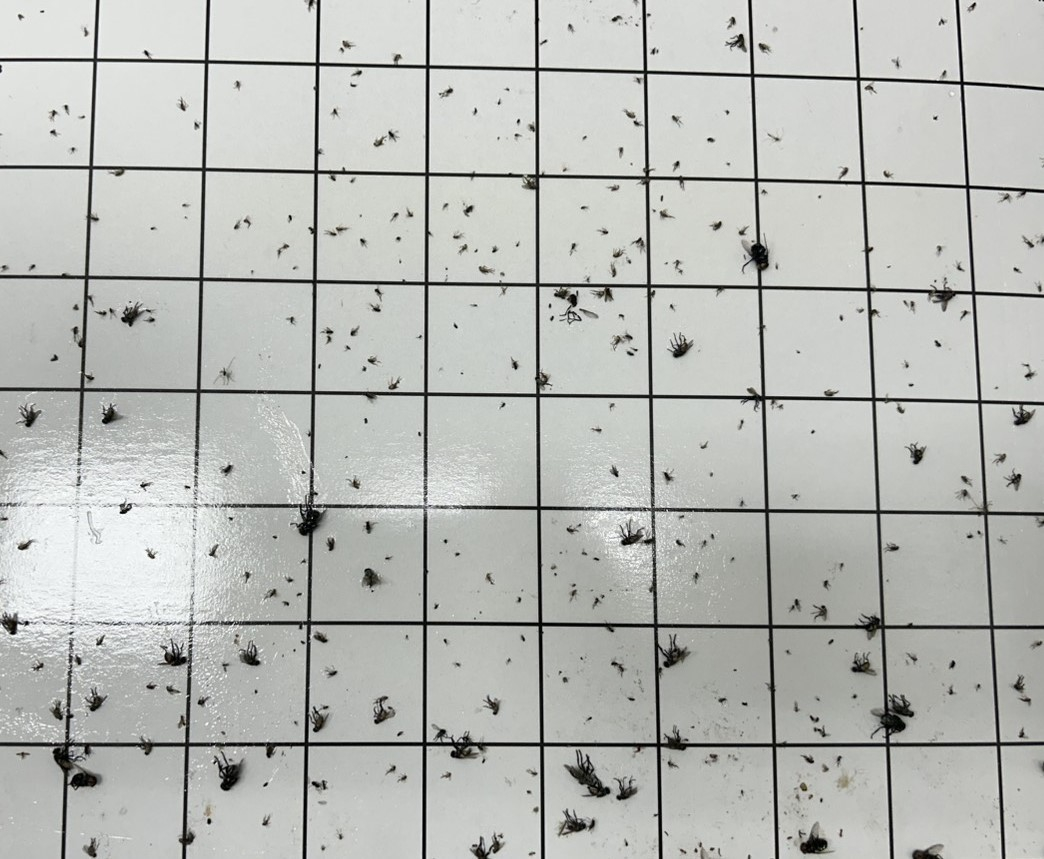fly: (290, 493, 329, 536), (796, 819, 835, 856), (212, 750, 245, 793), (737, 236, 773, 275), (560, 746, 597, 783), (657, 634, 692, 667), (555, 806, 588, 840), (842, 651, 880, 680), (49, 739, 82, 772), (66, 763, 102, 793), (871, 711, 909, 737), (159, 638, 189, 670), (665, 331, 696, 360), (370, 695, 399, 725), (82, 686, 111, 715), (98, 401, 127, 430), (449, 732, 477, 762), (15, 400, 44, 428), (304, 705, 332, 732), (358, 566, 385, 593), (584, 776, 612, 802), (615, 773, 640, 802), (858, 612, 883, 640), (240, 639, 264, 668), (933, 286, 958, 313), (1009, 402, 1036, 426), (910, 841, 946, 859), (906, 441, 928, 465), (2, 611, 20, 640), (553, 280, 570, 299)
test: (614, 519, 643, 550), (116, 297, 145, 328), (740, 383, 766, 413), (660, 728, 691, 752), (467, 835, 493, 859), (485, 692, 504, 721), (724, 32, 748, 54), (1005, 467, 1024, 493), (530, 370, 552, 391), (428, 722, 450, 743), (138, 734, 155, 759), (814, 601, 831, 625), (973, 499, 993, 519), (80, 840, 101, 859), (15, 535, 37, 553), (263, 737, 279, 761), (217, 364, 235, 385), (489, 834, 507, 855), (1011, 671, 1027, 694), (178, 830, 197, 849), (521, 174, 540, 193), (118, 498, 137, 516), (80, 741, 98, 760), (882, 539, 901, 556), (764, 130, 783, 147), (391, 49, 405, 72), (820, 386, 841, 401), (661, 467, 679, 484), (990, 449, 1008, 466), (311, 628, 329, 645), (756, 40, 773, 58), (953, 485, 971, 502), (609, 332, 625, 351), (384, 376, 404, 391), (51, 701, 65, 722), (566, 290, 582, 308), (658, 206, 677, 221), (608, 462, 621, 483), (361, 519, 378, 535), (438, 85, 455, 101), (370, 133, 386, 150), (863, 81, 880, 97), (207, 541, 222, 559), (790, 597, 805, 615), (814, 726, 833, 740), (1023, 364, 1039, 380), (81, 371, 98, 386), (460, 204, 477, 219), (1021, 233, 1036, 250), (507, 355, 521, 373), (109, 165, 127, 179), (220, 462, 235, 478), (139, 478, 155, 493), (93, 634, 109, 649), (82, 292, 98, 307), (735, 224, 751, 239), (836, 164, 850, 181), (996, 191, 1013, 205), (176, 95, 189, 113), (567, 240, 580, 258), (603, 284, 615, 303), (283, 314, 298, 329), (302, 0, 318, 14), (496, 281, 510, 297), (637, 173, 653, 187), (724, 15, 738, 31), (339, 38, 356, 51), (177, 713, 189, 731), (607, 261, 619, 279), (931, 335, 945, 350), (802, 751, 816, 766), (325, 665, 339, 680), (611, 245, 626, 259), (33, 659, 46, 675), (349, 323, 362, 339), (70, 323, 83, 339), (889, 55, 902, 71), (476, 264, 494, 275), (644, 534, 658, 548), (1015, 726, 1029, 740), (265, 586, 279, 600), (474, 738, 488, 752), (367, 353, 381, 367), (670, 113, 684, 127), (895, 402, 908, 417), (163, 682, 178, 695), (766, 681, 779, 696), (958, 308, 971, 323), (349, 476, 361, 492), (145, 546, 157, 562), (261, 813, 273, 829), (404, 204, 416, 220), (606, 182, 622, 194), (195, 696, 212, 707), (590, 423, 604, 436), (690, 570, 703, 584), (325, 537, 338, 551), (396, 771, 410, 784), (73, 654, 86, 668), (242, 215, 255, 229), (386, 129, 400, 142), (457, 242, 470, 256), (364, 390, 379, 402), (94, 307, 109, 319), (373, 283, 385, 298), (451, 229, 466, 241), (623, 107, 638, 119), (821, 576, 832, 592), (736, 417, 747, 433), (15, 749, 31, 760), (320, 325, 336, 336), (677, 174, 687, 191), (641, 164, 658, 174), (1031, 638, 1044, 651), (905, 651, 918, 664), (634, 742, 647, 755), (665, 759, 678, 772), (587, 817, 600, 830), (228, 220, 241, 233), (47, 107, 60, 120), (368, 302, 381, 315), (1016, 187, 1029, 200), (965, 0, 978, 13), (385, 763, 399, 775), (389, 209, 401, 223), (610, 12, 624, 24), (711, 219, 723, 233), (867, 307, 881, 319), (1019, 695, 1034, 706), (309, 778, 320, 793), (335, 223, 350, 234), (80, 24, 91, 39), (592, 594, 602, 610), (484, 573, 496, 586), (241, 569, 253, 582), (526, 766, 539, 778), (49, 352, 62, 364), (350, 67, 363, 79), (325, 227, 338, 239), (649, 45, 661, 58), (882, 168, 895, 180), (592, 288, 605, 300), (755, 322, 768, 334), (604, 622, 615, 636), (698, 438, 709, 452), (791, 490, 803, 502), (946, 659, 958, 671), (809, 713, 821, 725), (220, 661, 232, 673), (793, 699, 802, 715), (142, 48, 154, 60), (670, 159, 682, 171), (631, 235, 643, 247), (714, 284, 726, 296), (622, 330, 634, 342), (954, 261, 966, 273), (440, 635, 451, 648), (568, 587, 579, 600), (307, 224, 318, 237), (191, 119, 202, 132), (633, 75, 644, 88), (107, 305, 118, 318), (672, 258, 685, 269), (863, 244, 876, 255), (737, 495, 747, 509), (440, 770, 454, 780), (87, 214, 101, 224), (639, 239, 649, 253), (1036, 514, 1044, 531), (673, 538, 685, 549), (946, 685, 957, 697), (566, 525, 577, 537), (393, 728, 405, 739), (820, 762, 832, 773), (960, 472, 971, 484), (71, 301, 82, 313), (347, 78, 358, 90), (538, 37, 550, 48), (706, 135, 717, 147), (937, 68, 949, 79), (519, 632, 529, 645), (740, 699, 750, 712), (708, 751, 721, 761), (497, 399, 507, 412), (646, 583, 656, 596), (145, 682, 158, 692), (275, 247, 285, 260), (358, 236, 368, 249), (566, 22, 576, 35), (596, 226, 609, 236), (144, 315, 157, 325), (321, 779, 330, 793), (62, 103, 71, 117), (441, 537, 452, 548), (183, 482, 194, 493), (232, 78, 243, 89), (607, 400, 617, 412), (837, 560, 847, 572), (280, 599, 292, 609), (901, 359, 911, 371), (708, 531, 718, 543), (835, 753, 845, 765), (327, 171, 337, 183), (49, 127, 59, 139), (632, 118, 644, 128), (668, 302, 678, 314), (935, 243, 945, 255), (1011, 265, 1023, 275), (937, 16, 949, 26), (331, 106, 340, 119), (496, 95, 505, 108), (617, 145, 626, 158), (996, 536, 1009, 545), (384, 553, 395, 563), (295, 589, 305, 600), (561, 675, 571, 686), (532, 804, 542, 815), (699, 538, 709, 549), (296, 619, 306, 630), (313, 146, 324, 156), (323, 335, 334, 345), (76, 340, 87, 350), (26, 261, 37, 271), (59, 271, 70, 281), (579, 203, 590, 213), (468, 169, 478, 180), (515, 594, 524, 606), (677, 512, 686, 524), (441, 200, 450, 212), (144, 306, 156, 315), (1035, 282, 1044, 294), (909, 299, 918, 311), (336, 830, 344, 843), (837, 827, 845, 840), (906, 621, 916, 631), (286, 575, 296, 585), (204, 817, 214, 827), (527, 848, 537, 858), (728, 554, 738, 564), (360, 363, 370, 373), (469, 300, 479, 310), (490, 244, 500, 254), (342, 343, 352, 353), (630, 343, 640, 353), (772, 261, 782, 271), (503, 656, 512, 667), (592, 554, 601, 565), (15, 11, 26, 20), (527, 122, 536, 133), (512, 131, 523, 140), (583, 275, 592, 286), (974, 682, 983, 693), (717, 696, 729, 704), (362, 415, 370, 427), (777, 401, 785, 413), (769, 397, 777, 409), (927, 288, 935, 300), (611, 659, 621, 668), (783, 647, 793, 656), (306, 428, 315, 438), (226, 513, 236, 522), (271, 533, 280, 543), (623, 839, 632, 849), (525, 788, 535, 797), (580, 548, 589, 558), (181, 200, 191, 209), (452, 320, 461, 330), (470, 106, 479, 116), (502, 84, 512, 93), (514, 116, 523, 126), (724, 159, 733, 169), (760, 187, 769, 197), (966, 531, 975, 541), (626, 695, 637, 703), (286, 212, 294, 223), (624, 349, 635, 357), (855, 307, 866, 315), (837, 312, 845, 323), (850, 692, 859, 701), (454, 660, 463, 669), (431, 602, 440, 611), (299, 558, 308, 567), (319, 844, 328, 853), (338, 45, 347, 54), (0, 264, 9, 273), (281, 242, 290, 251), (424, 228, 433, 237), (580, 133, 589, 142), (648, 288, 657, 297), (617, 312, 626, 321), (828, 636, 836, 646), (454, 549, 462, 559), (299, 467, 307, 477), (404, 632, 412, 642), (316, 361, 324, 371), (69, 145, 77, 155), (724, 108, 732, 118), (902, 298, 910, 308), (975, 527, 983, 537), (707, 470, 716, 478), (416, 429, 424, 438), (585, 715, 594, 723), (679, 847, 688, 855), (560, 166, 569, 174), (625, 256, 633, 265), (931, 114, 940, 122), (785, 833, 793, 842), (76, 113, 87, 119), (659, 193, 665, 204), (262, 780, 270, 788), (795, 348, 803, 356), (816, 192, 824, 200), (22, 619, 30, 627), (906, 381, 915, 388), (809, 427, 816, 436), (220, 728, 227, 737), (149, 225, 158, 232), (38, 8, 47, 15), (340, 166, 347, 175), (415, 333, 424, 340), (549, 315, 556, 324), (992, 384, 1001, 391), (652, 811, 661, 818), (708, 845, 717, 852), (253, 687, 260, 695), (291, 264, 299, 271), (395, 235, 402, 243), (514, 239, 521, 247), (473, 247, 480, 255), (499, 270, 507, 277), (858, 24, 865, 32), (645, 11, 652, 19), (815, 696, 822, 704), (739, 789, 747, 796), (663, 829, 670, 837), (807, 793, 815, 800), (343, 453, 350, 461), (482, 758, 488, 767), (677, 268, 686, 274), (884, 263, 893, 269), (249, 268, 256, 275), (350, 177, 357, 184), (397, 258, 404, 265), (495, 134, 502, 141), (818, 796, 825, 803), (746, 852, 753, 859), (663, 260, 670, 267), (652, 206, 658, 214), (732, 666, 738, 674), (693, 846, 699, 854), (401, 278, 407, 285), (547, 301, 553, 308), (312, 84, 318, 91), (577, 523, 584, 529), (299, 639, 306, 645), (458, 370, 464, 376), (358, 212, 363, 219), (444, 265, 449, 272), (553, 571, 558, 578), (478, 609, 484, 614), (558, 550, 563, 555)
